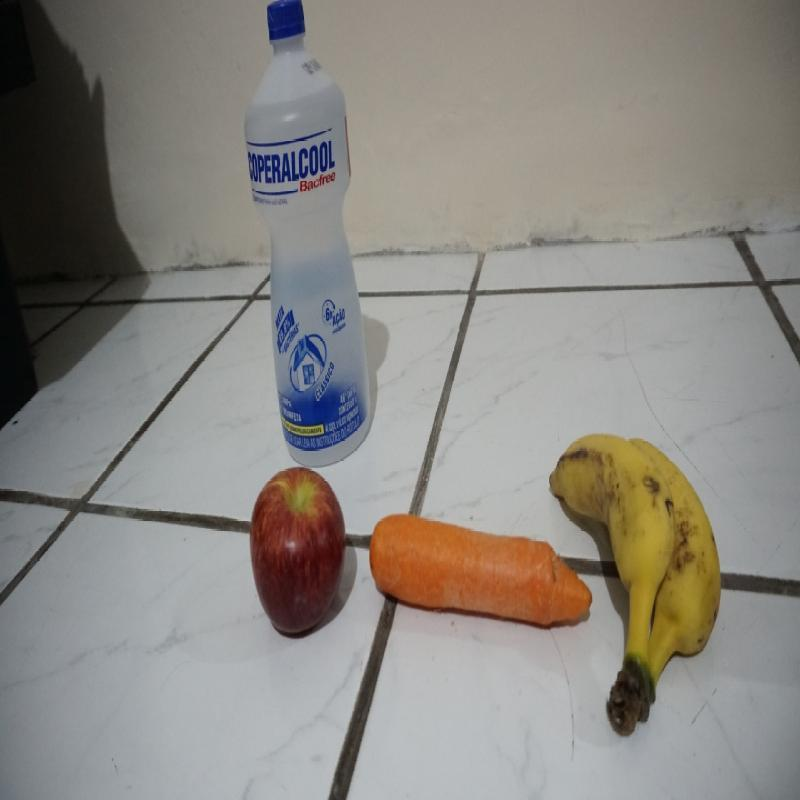Alcohol Bottle: (246, 4, 372, 465)
Apple: (248, 468, 348, 644)
Banana: (594, 434, 737, 730)
Carrot: (365, 508, 592, 662)
